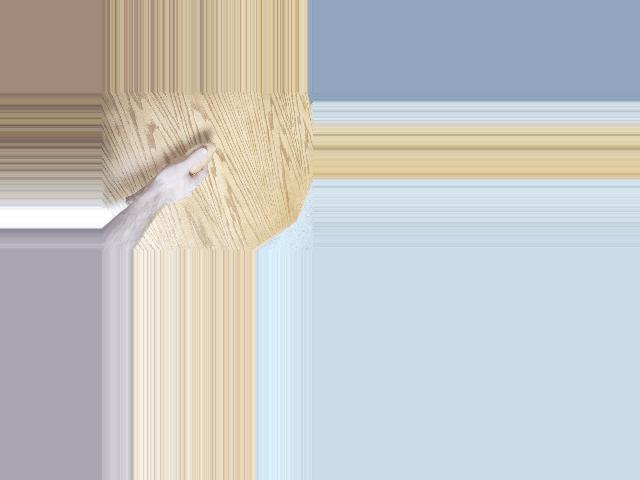sweet_potato: (122, 141, 215, 206)
